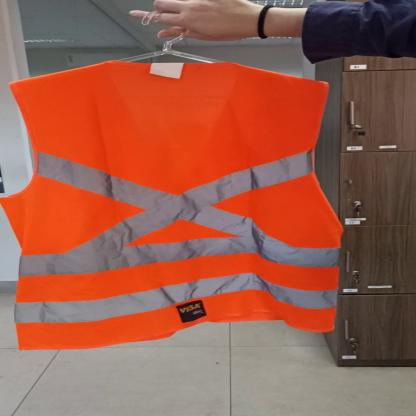colete: (2, 53, 348, 351)
